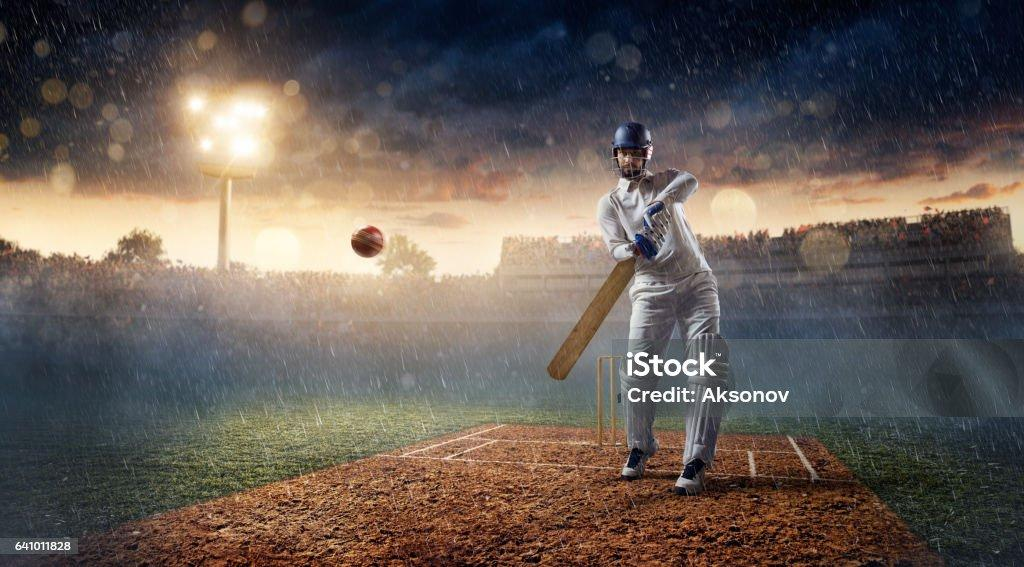batsman: (575, 96, 749, 539)
